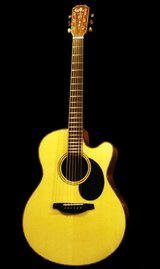guitar: (21, 4, 130, 267)
